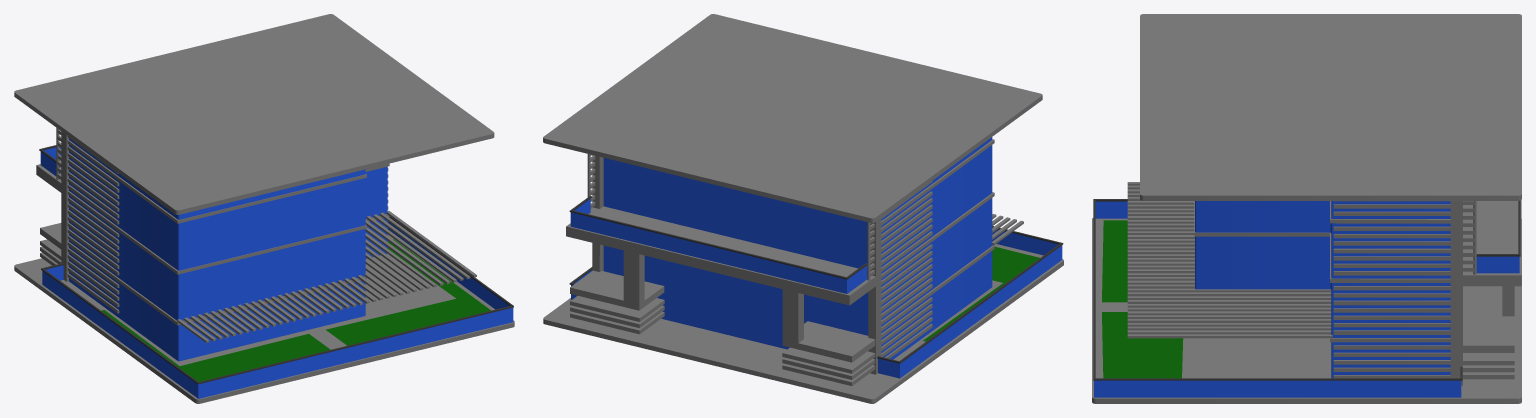
Rendered from SM_B_Mate_Floor_01.fbx.
3 renders of one model, left to right at view 1: azimuth 30°, elevation 25°; view 2: azimuth 150°, elevation 25°; view 3: azimuth 270°, elevation 25°, orthographic. The views are drawn at different scales.
Visible parts, largest first — view 1: SM_B_Mate_Floor_01; view 2: SM_B_Mate_Floor_01; view 3: SM_B_Mate_Floor_01.
Boxes of the visible parts, box(x1,y1,x2,y2) form: SM_B_Mate_Floor_01: box(14, 14, 514, 403); SM_B_Mate_Floor_01: box(543, 14, 1063, 403); SM_B_Mate_Floor_01: box(1092, 14, 1521, 403).
Size of the model in its own units: 2101 by 1123 by 2101.
